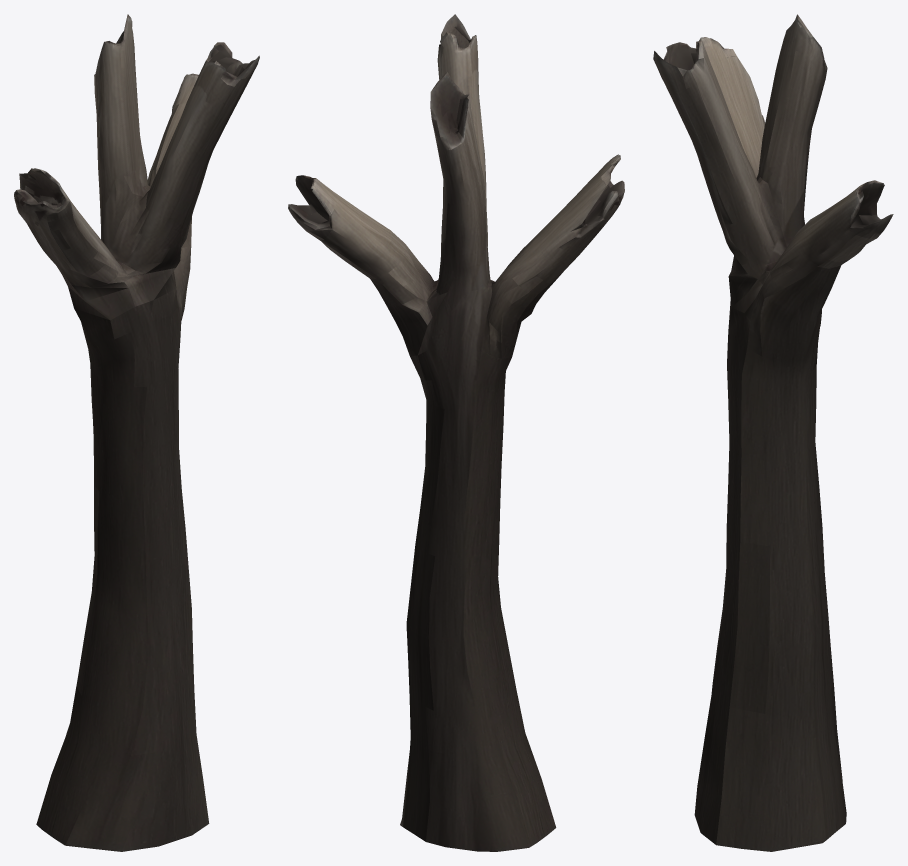
The model's file is wh-tree-dead-young-meshy.glb.
3 renders of one model, left to right at view 1: azimuth 30°, elevation 25°; view 2: azimuth 150°, elevation 25°; view 3: azimuth 270°, elevation 25°, orthographic. The views are drawn at different scales.
Size of the model in its own units: 0.6897 by 1.9 by 0.5094.
Materials: 1 (1 with a texture image).
